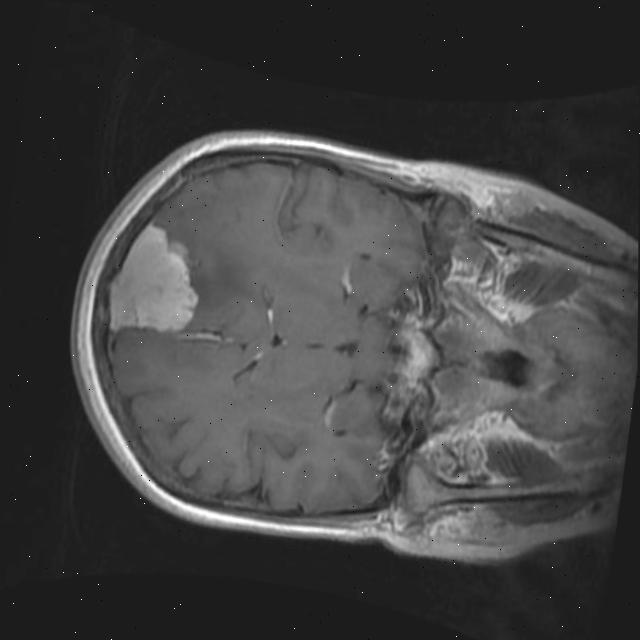Meningioma: (99, 211, 212, 348)
Pituitary: (392, 326, 442, 383)
